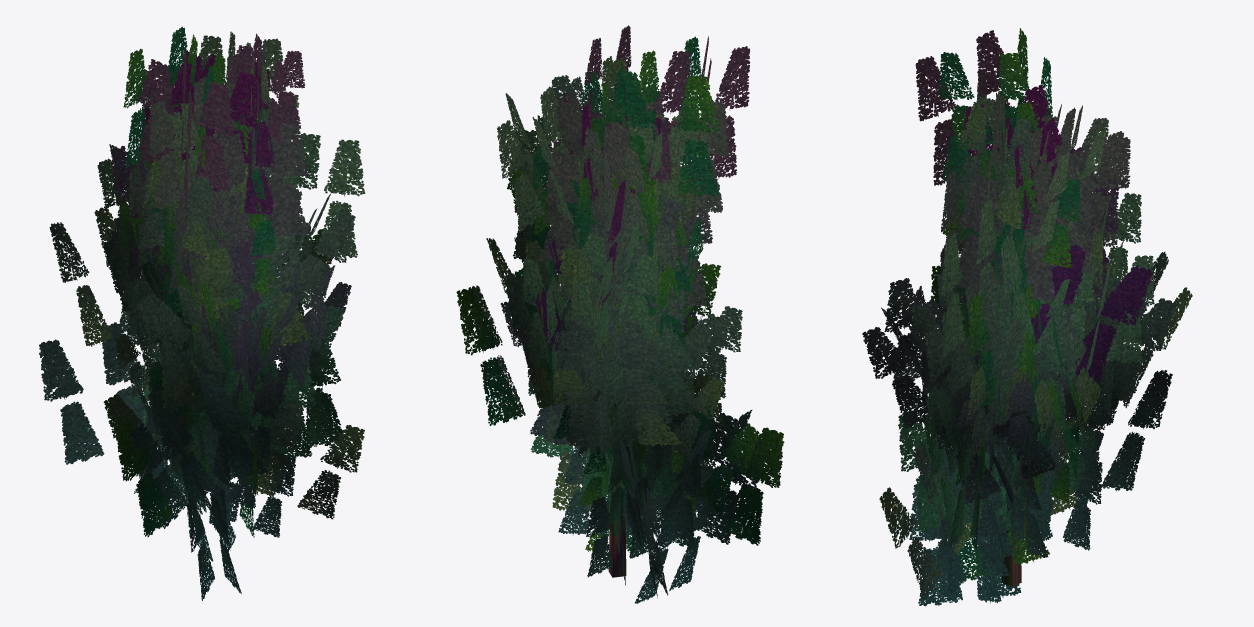
Rendered from nat_cypress_b_LOD2.glb.
3 views of the same model, side by side, from view 1: azimuth 30°, elevation 25°; view 2: azimuth 150°, elevation 25°; view 3: azimuth 270°, elevation 25° (orthographic). The views are drawn at different scales.
Parts seen in each view (by area): view 1: nat_cypress_b_LOD2; view 2: nat_cypress_b_LOD2; view 3: nat_cypress_b_LOD2.
Part boxes in pixels (x1,y1,x2,y2): nat_cypress_b_LOD2: (39,26,365,600); nat_cypress_b_LOD2: (456,25,784,603); nat_cypress_b_LOD2: (862,28,1192,606).
Size of the model in its own units: 5.95 by 9.75 by 6.17.
Materials: 2 (2 with a texture image).
